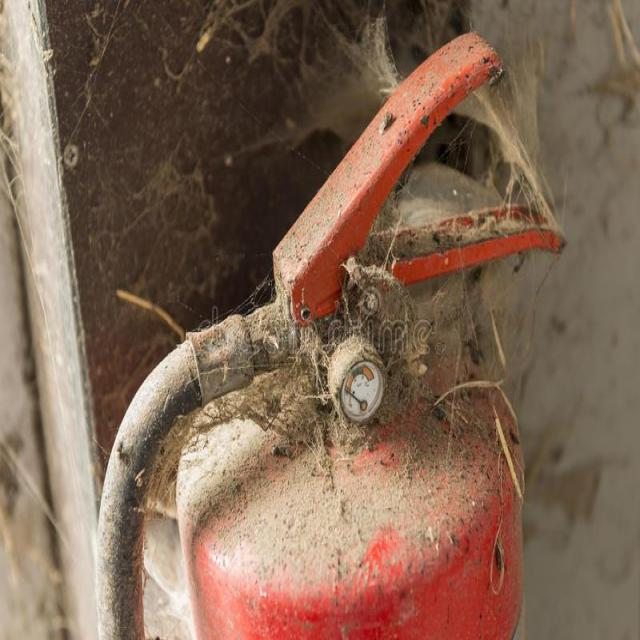fire_extinguisher: (92, 26, 574, 639)
